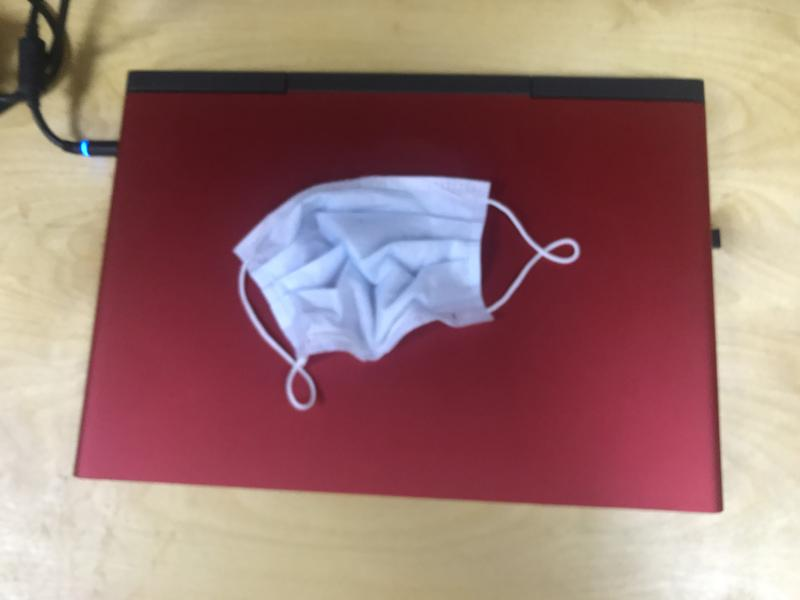medical_mask: (237, 176, 580, 359)
